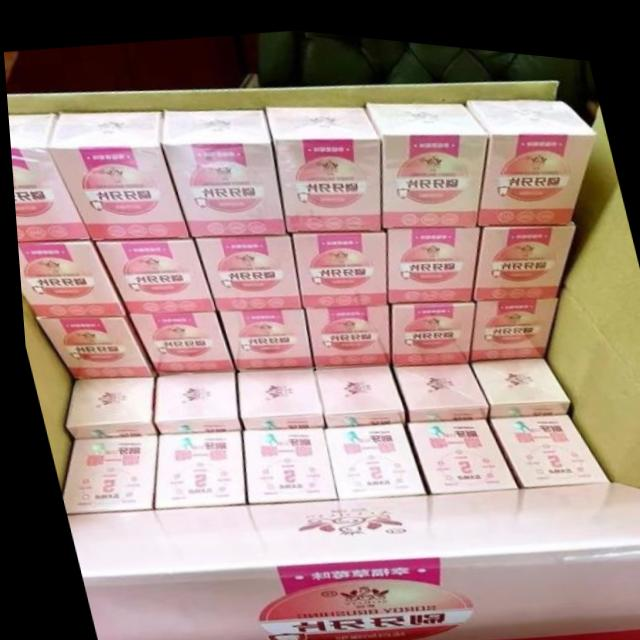box: (45, 109, 189, 239), (463, 89, 598, 215), (362, 92, 486, 223), (157, 104, 281, 233), (263, 100, 379, 225), (7, 114, 88, 241), (88, 234, 211, 311), (478, 403, 603, 477), (397, 406, 511, 485), (190, 227, 299, 305), (469, 210, 573, 291), (14, 238, 120, 316), (283, 223, 385, 301), (318, 415, 420, 492), (55, 433, 151, 513), (31, 314, 148, 379), (382, 218, 477, 296), (146, 425, 236, 506), (237, 421, 330, 497), (121, 306, 231, 369), (462, 346, 563, 409), (212, 302, 308, 366), (306, 358, 401, 421), (298, 297, 388, 362), (230, 360, 318, 426), (387, 354, 483, 413), (148, 366, 235, 431), (387, 292, 471, 359), (464, 288, 552, 351), (61, 376, 148, 438)
